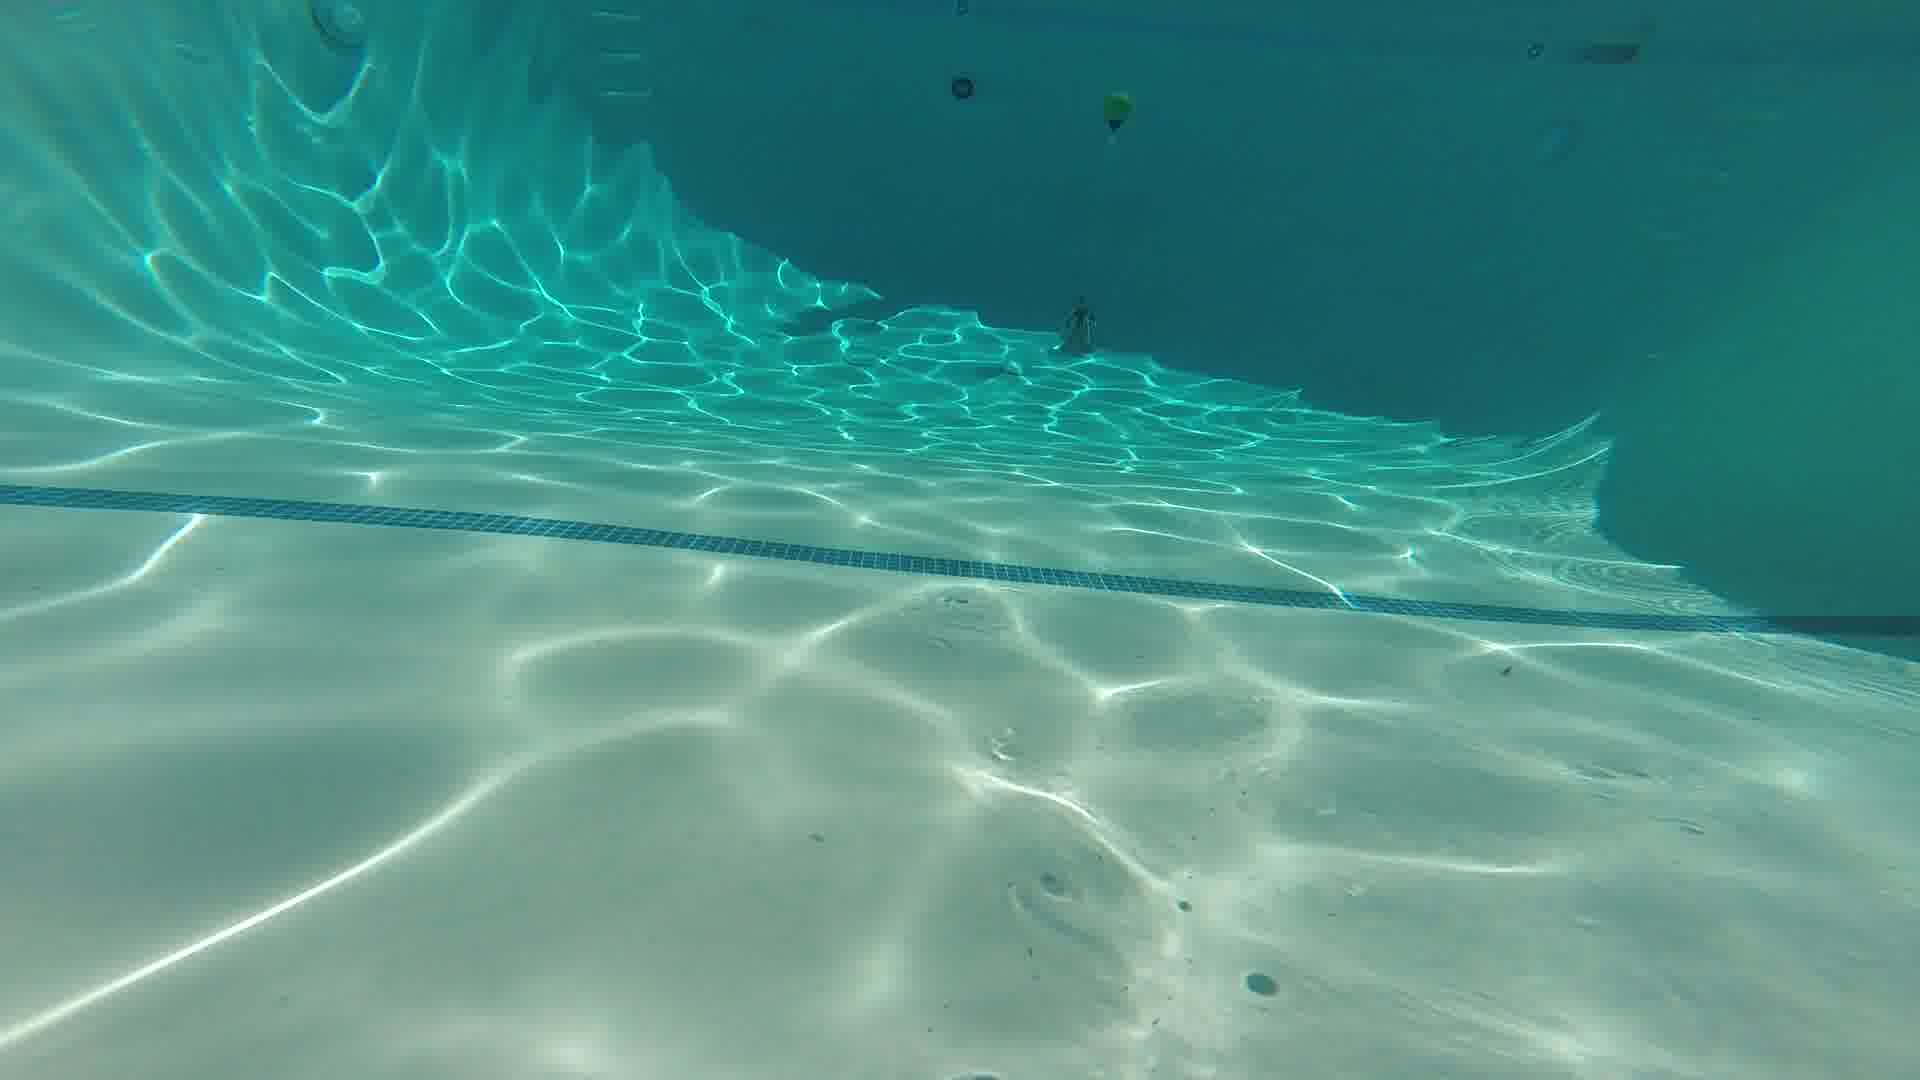yellow_buoy: (1096, 84, 1141, 138)
